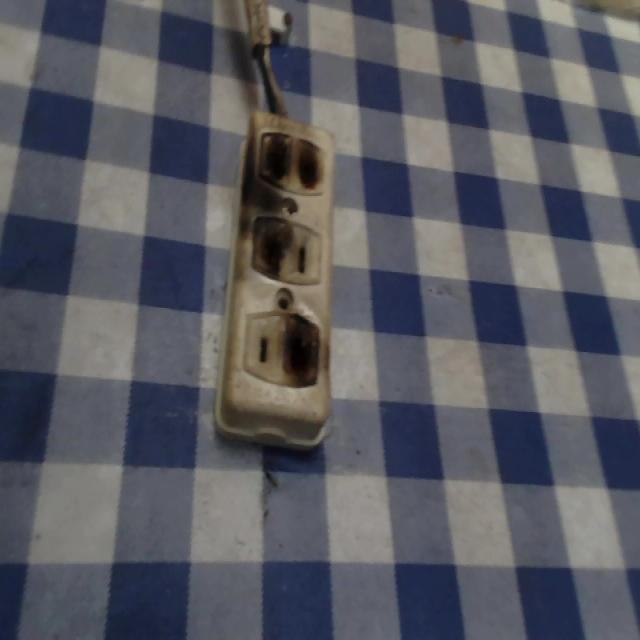-: (254, 125, 323, 203), (282, 310, 319, 386), (249, 215, 289, 284)
